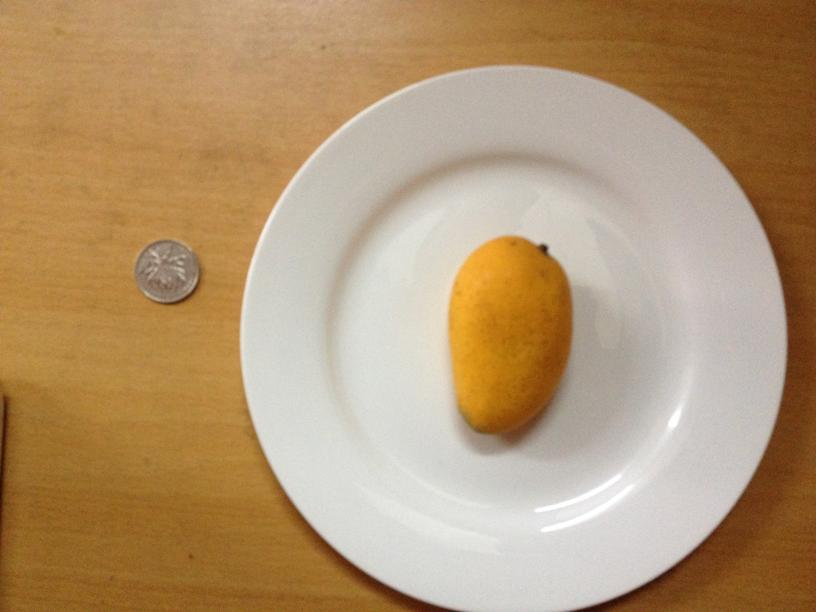coin: (131, 237, 198, 302)
mango: (439, 235, 571, 435)
